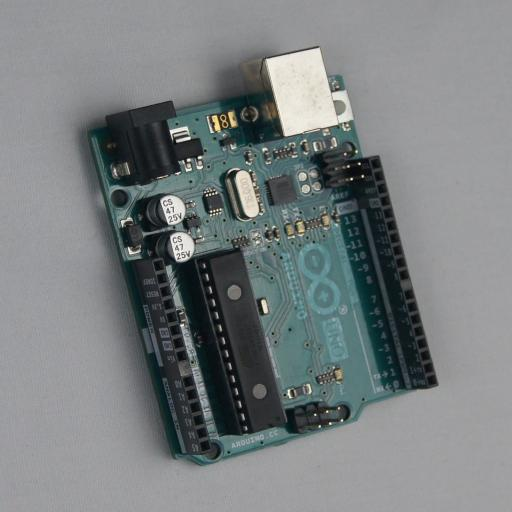Arduino Uno -Green-: (77, 46, 438, 466)
